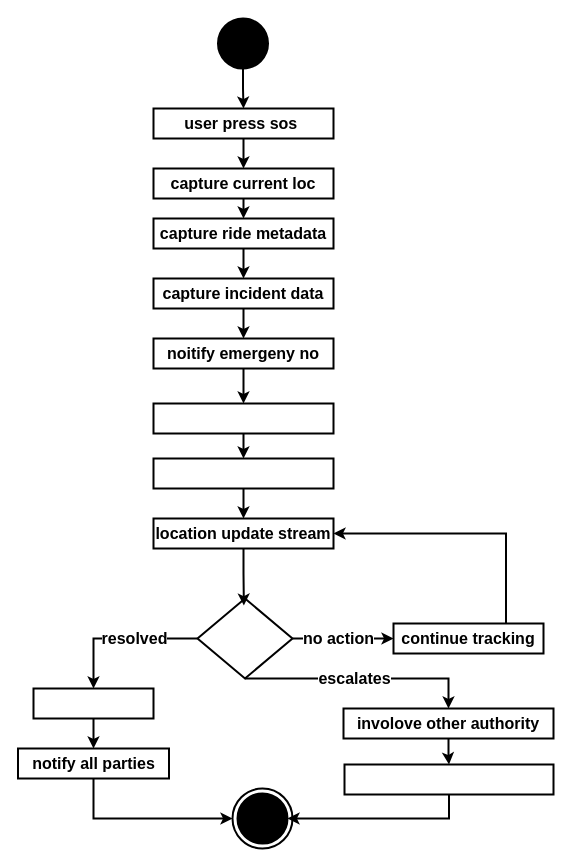
Image size: 572x866. Some labels were removed from this diagram. Here are the shapes that lost their labels. From the top down, the centre of each, then its label:
At pixel 243 418: "notify admin".
At pixel 243 473: "continue gps".
At pixel 244 638: "admin action".
At pixel 93 703: "mark resolved".
At pixel 448 779: "involve responder".
